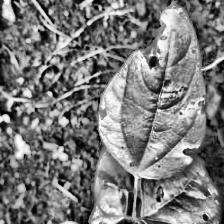ALS: (94, 2, 209, 175), (140, 172, 220, 224), (87, 177, 133, 224)
